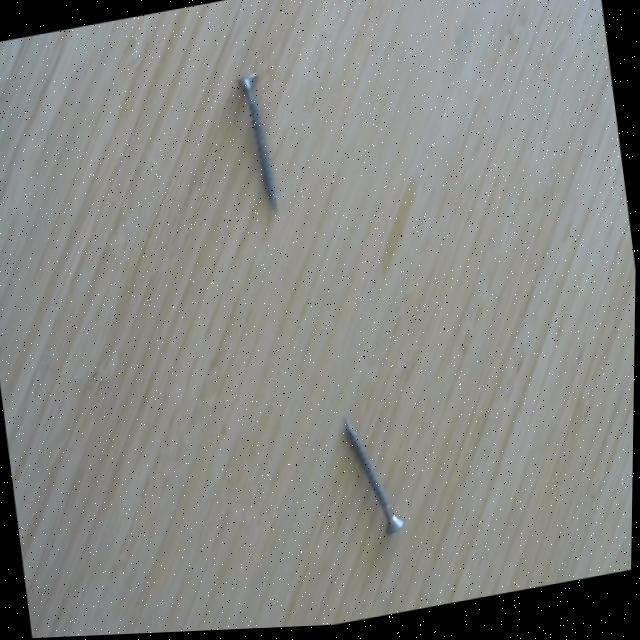Black screw: (328, 406, 418, 555), (233, 65, 296, 228)
